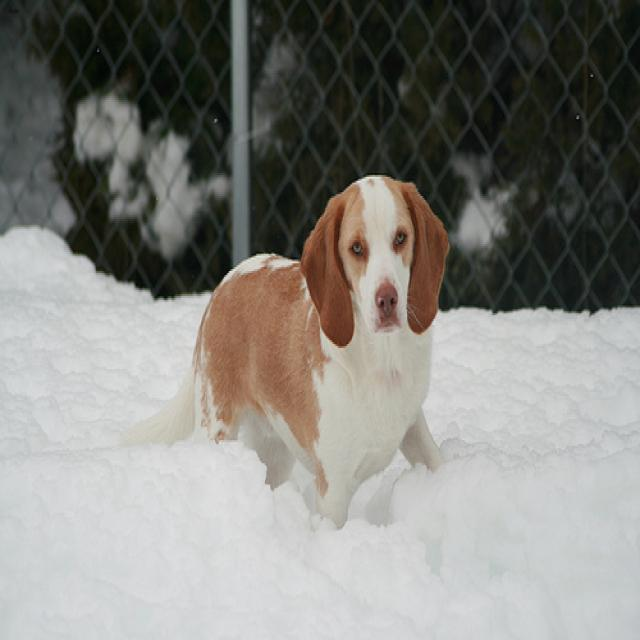dog-beagle: (114, 165, 456, 554)
